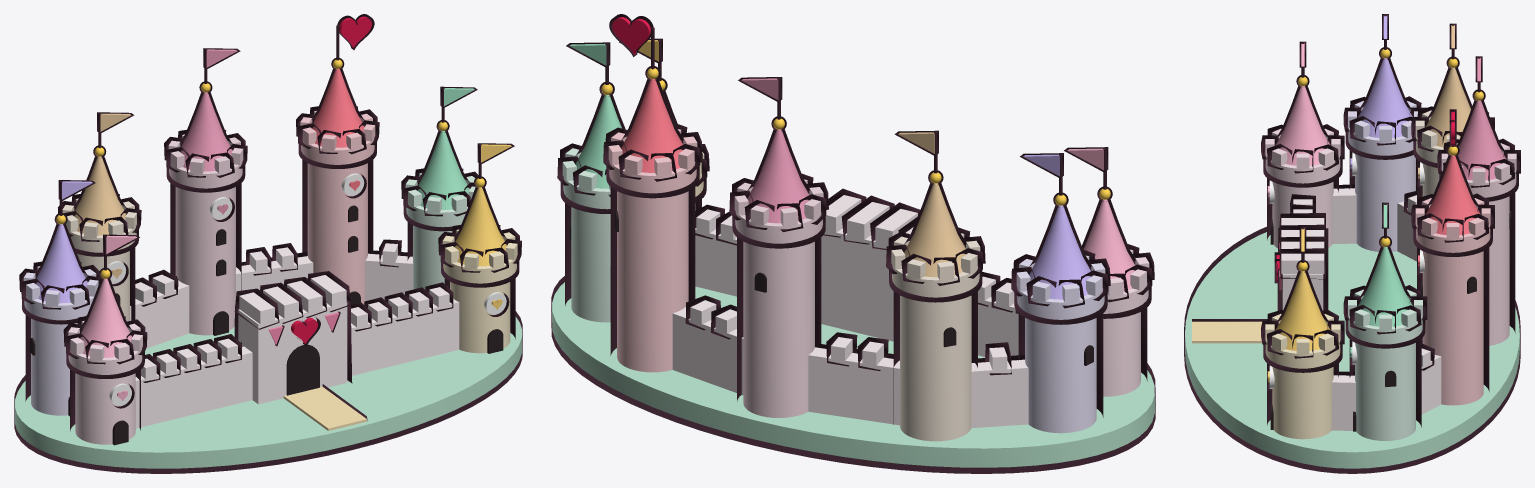
Rendered from kale.glb.
3 renders of one model, left to right at view 1: azimuth 30°, elevation 25°; view 2: azimuth 150°, elevation 25°; view 3: azimuth 270°, elevation 25°, orthographic. The views are drawn at different scales.
Visible parts, largest first — view 1: sur, cizgi, cimen, kule_anilar, kule_kalp, kule_sahip, kule_mevsim, kule_hazine, murekkep, kule_oyun, kule_zaman, cati_anilar (+11 smaller); view 2: cizgi, sur, cimen, kule_anilar, kule_kalp, kule_zaman, kule_mevsim, kule_oyun, kule_sahip, cati_anilar, cati_zaman, cati_mevsim (+7 smaller); view 3: cimen, cizgi, kule_kalp, kule_oyun, sur, kule_mevsim, kule_hazine, kule_anilar, kule_sahip, cati_oyun, cati_mevsim, cati_sahip (+9 smaller).
Part boxes in pixels (x1=…): sur: x1=130, y1=243, x2=459, y2=428; cizgi: x1=14, y1=14, x2=522, y2=473; cimen: x1=15, y1=317, x2=521, y2=468; kule_anilar: x1=168, y1=134, x2=243, y2=335; kule_kalp: x1=300, y1=110, x2=375, y2=304; kule_sahip: x1=68, y1=321, x2=142, y2=444; kule_mevsim: x1=23, y1=266, x2=98, y2=415; kule_hazine: x1=442, y1=229, x2=517, y2=353; murekkep: x1=29, y1=205, x2=503, y2=445; kule_oyun: x1=405, y1=173, x2=475, y2=289; kule_zaman: x1=62, y1=198, x2=136, y2=321; cati_anilar: x1=180, y1=49, x2=237, y2=214; cizgi: x1=551, y1=14, x2=1155, y2=473; sur: x1=610, y1=195, x2=1028, y2=428; cimen: x1=552, y1=282, x2=1154, y2=467; kule_anilar: x1=734, y1=179, x2=823, y2=417; kule_kalp: x1=608, y1=129, x2=697, y2=372; kule_zaman: x1=891, y1=233, x2=980, y2=441; kule_mevsim: x1=1016, y1=255, x2=1105, y2=433; kule_oyun: x1=562, y1=148, x2=610, y2=322; kule_sahip: x1=1103, y1=249, x2=1149, y2=396; cati_anilar: x1=741, y1=78, x2=809, y2=223; cati_zaman: x1=898, y1=132, x2=965, y2=277; cati_mevsim: x1=1023, y1=154, x2=1090, y2=299; cimen: x1=1185, y1=232, x2=1519, y2=468; cizgi: x1=1184, y1=14, x2=1520, y2=473; kule_kalp: x1=1415, y1=198, x2=1490, y2=405; kule_oyun: x1=1348, y1=289, x2=1422, y2=440; sur: x1=1281, y1=188, x2=1441, y2=430; kule_mevsim: x1=1348, y1=101, x2=1417, y2=251; kule_hazine: x1=1265, y1=314, x2=1340, y2=439; kule_anilar: x1=1441, y1=143, x2=1516, y2=345; kule_sahip: x1=1265, y1=128, x2=1340, y2=248; cati_oyun: x1=1350, y1=204, x2=1412, y2=357; cati_mevsim: x1=1350, y1=15, x2=1412, y2=169; cati_sahip: x1=1267, y1=43, x2=1329, y2=197.
Size of the model in its own units: 0.2485 by 0.1504 by 0.1489.
